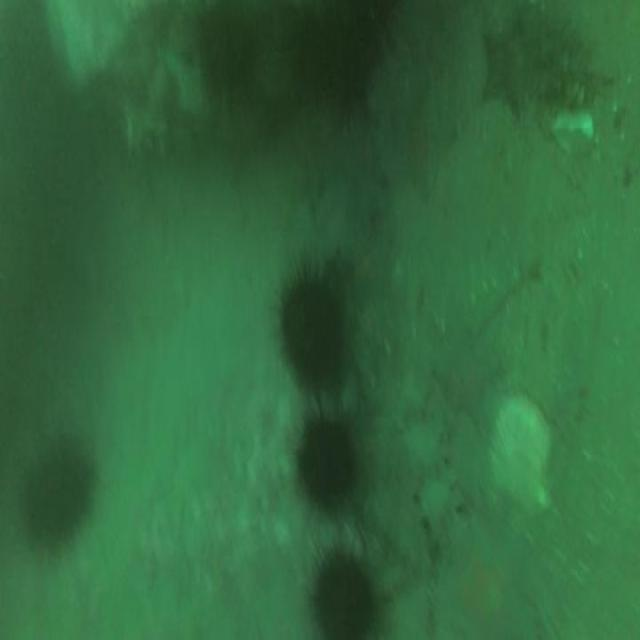echinus: (280, 275, 346, 387), (26, 446, 92, 552), (299, 417, 353, 507), (316, 558, 368, 638)
holothurian: (465, 256, 523, 332)
scallop: (486, 395, 550, 518)
starfish: (482, 28, 538, 124)
